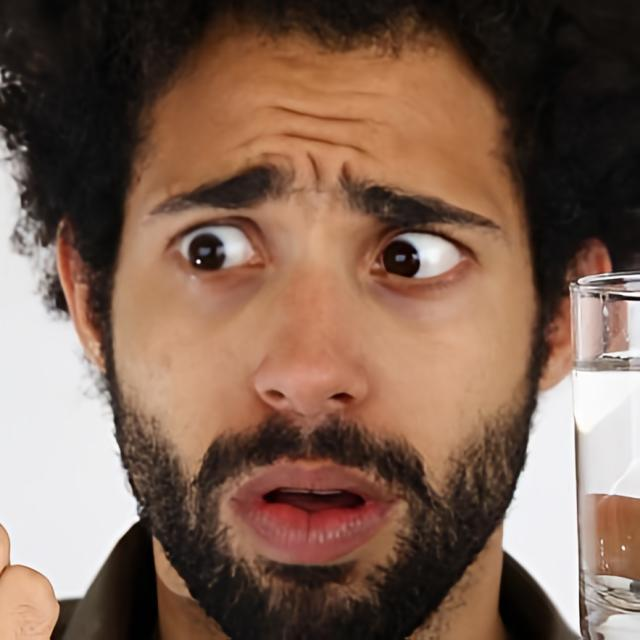fear: (108, 0, 540, 640)
